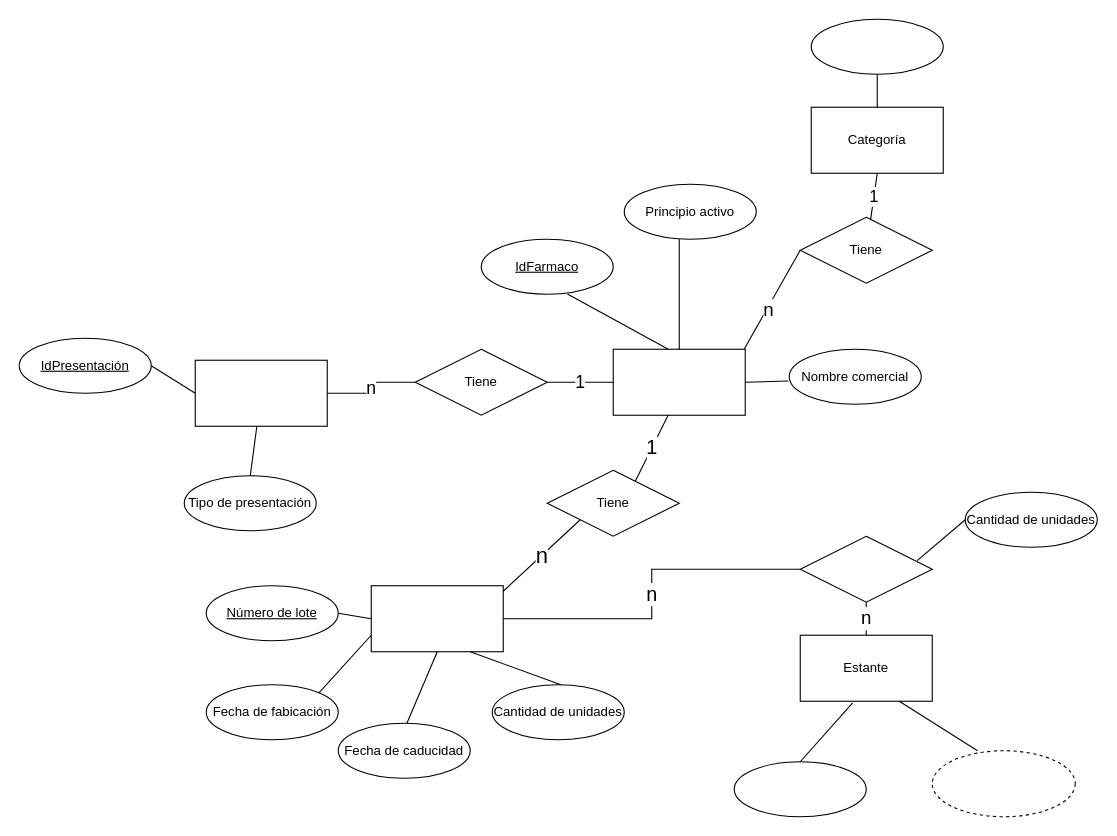
The diagram is 1117 pixels wide and 836 high, and some of its shapes have lost their labels. The box of each missing label's shape, as (x1, y1, x2, y2) in pixels:
Contiene: (799, 535, 932, 602)
Espacio disponible: (931, 750, 1075, 817)
Fármaco: (612, 348, 745, 415)
Lote: (370, 585, 503, 652)
Nombre de categoría: (810, 18, 943, 74)
Número de estante: (733, 761, 866, 817)
Presentación: (194, 359, 327, 426)
